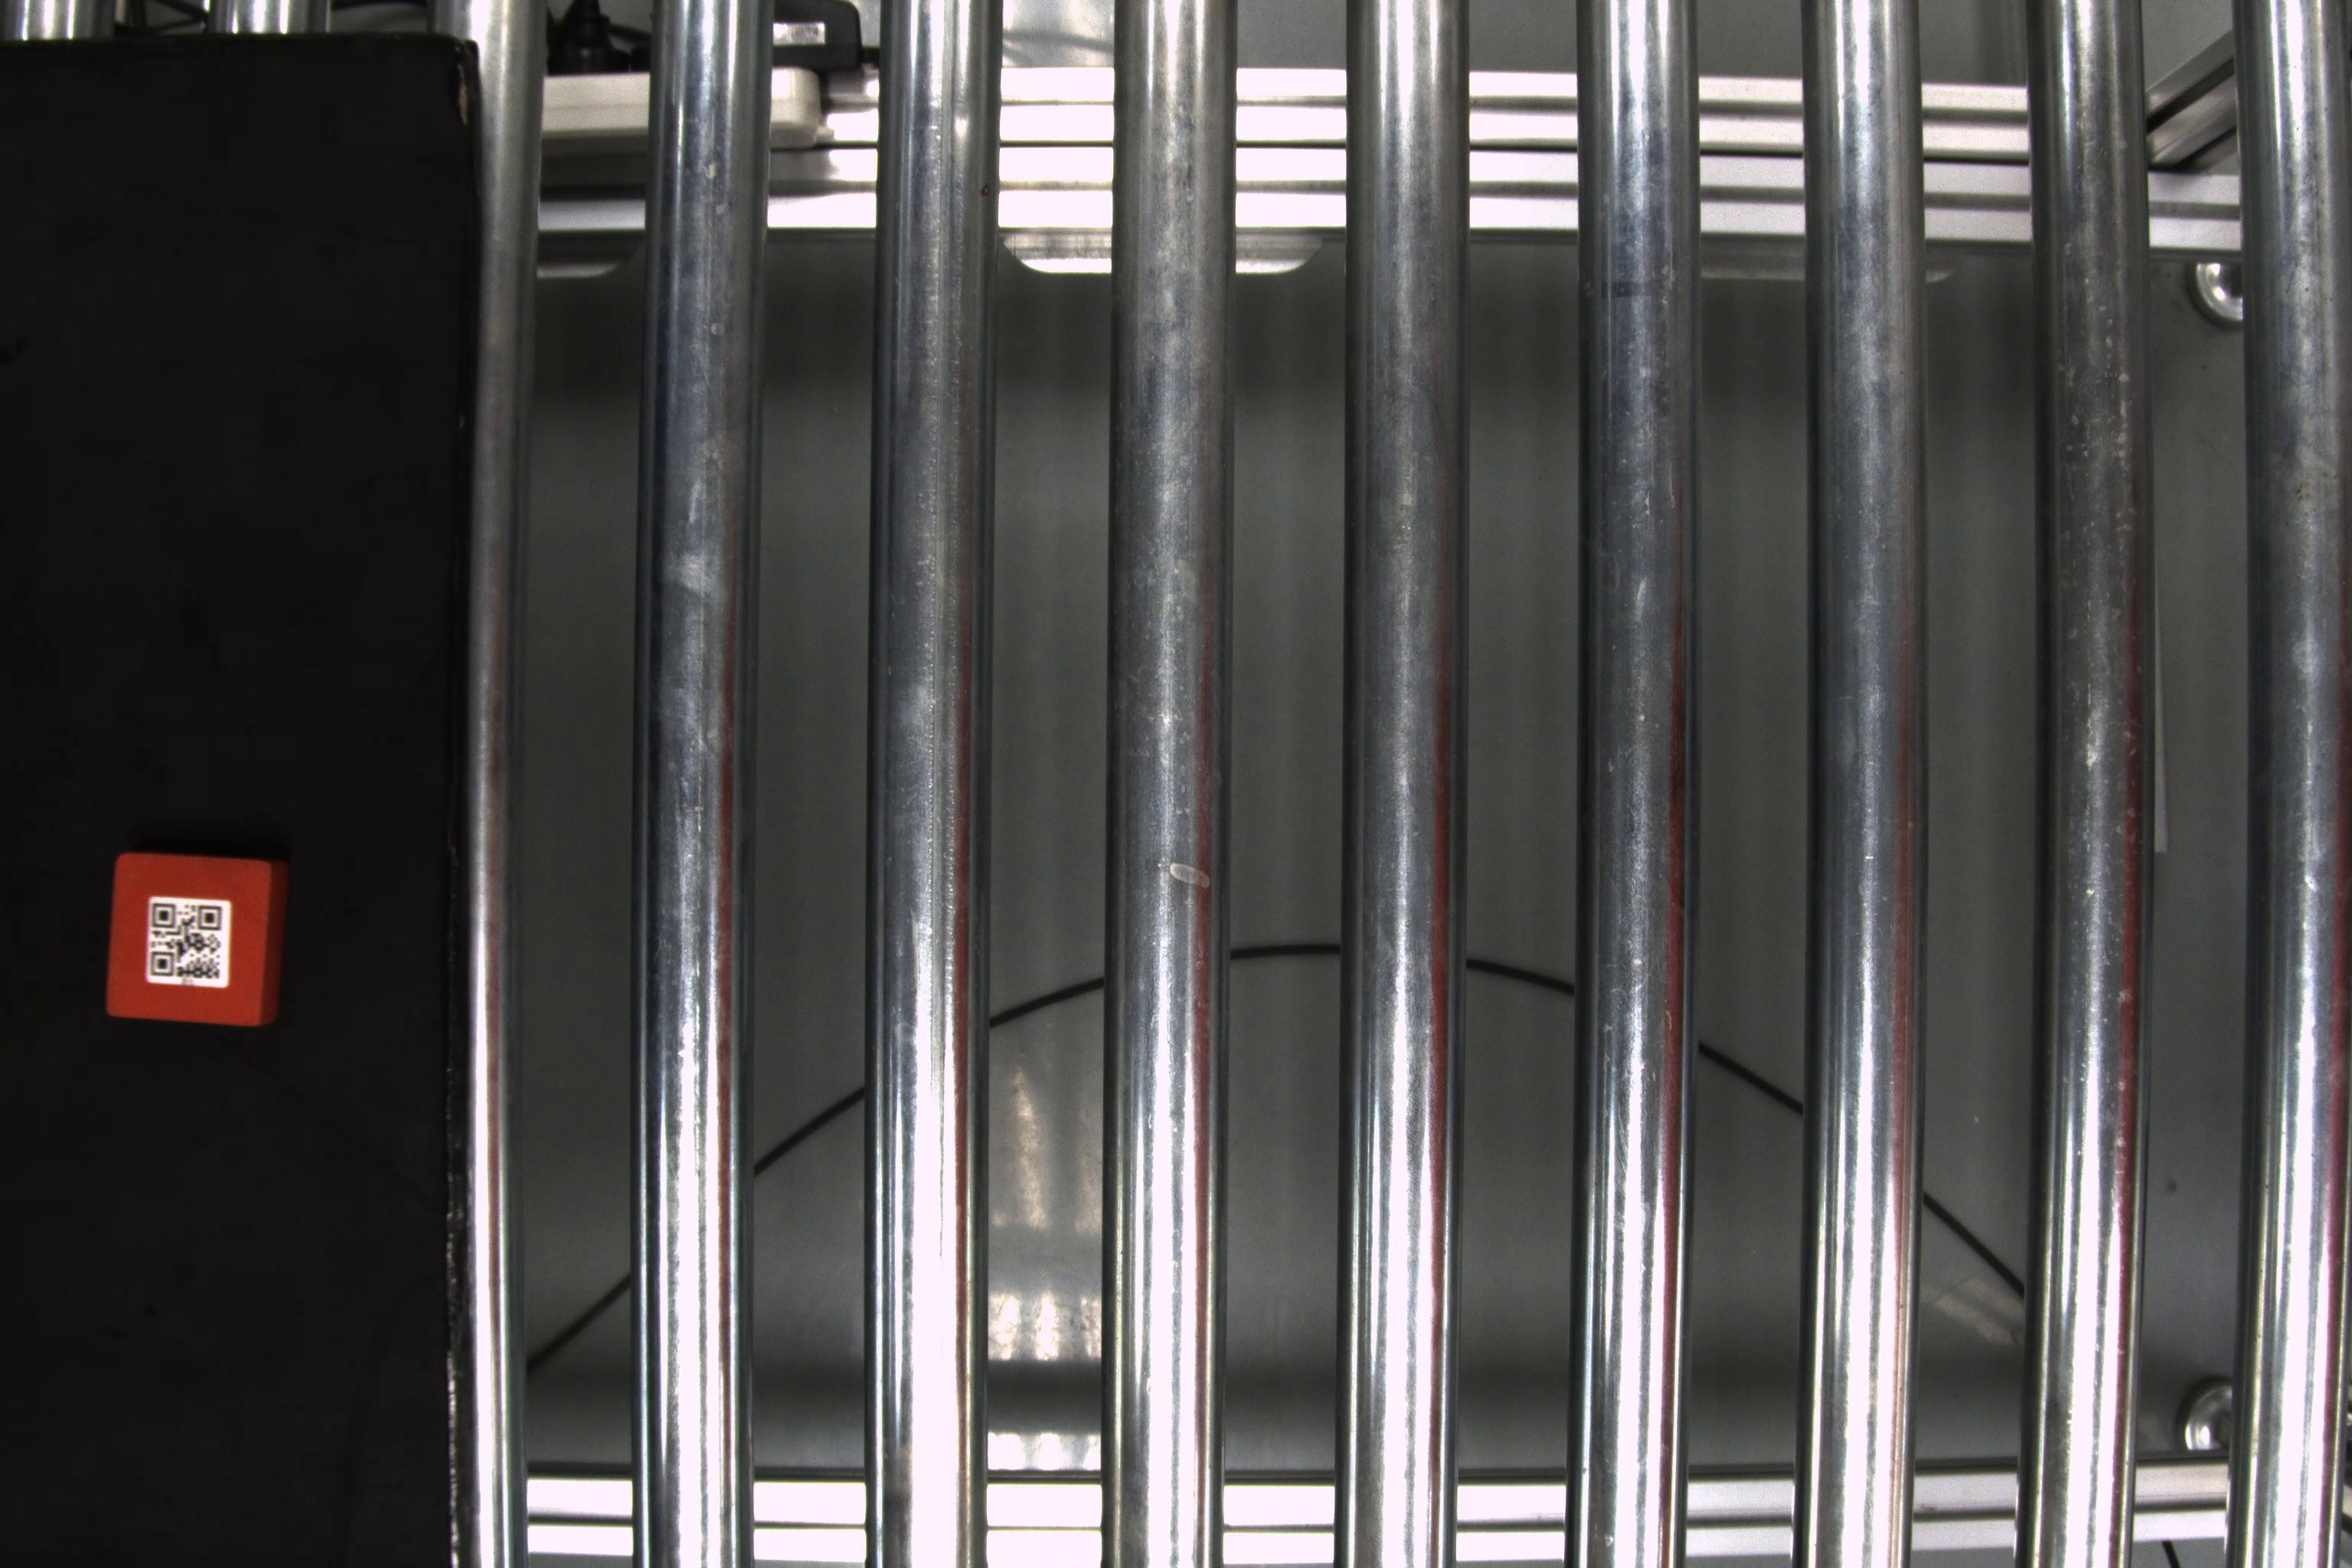wood: (98, 847, 294, 1029)
